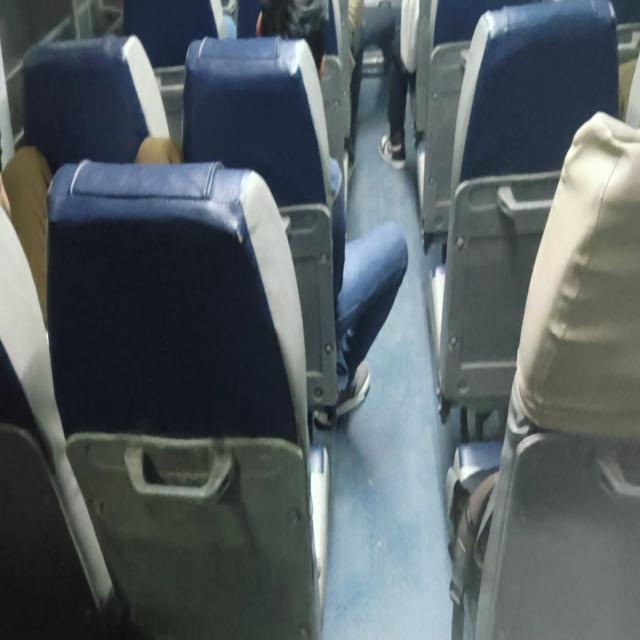person: (226, 0, 339, 93)
